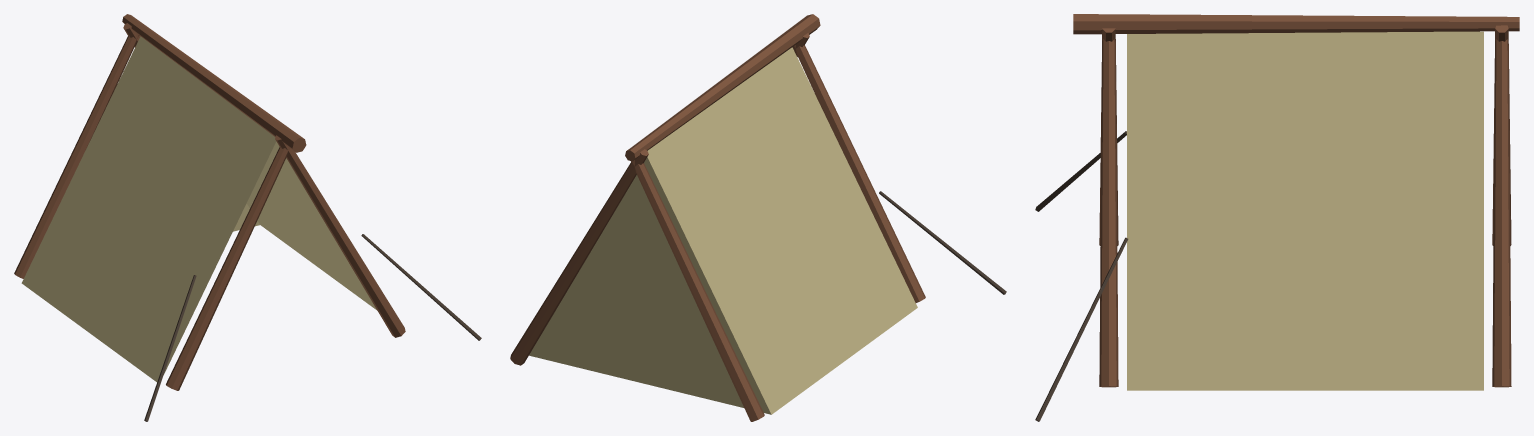
Rendered from tent.glb.
3 views of the same model, side by side, from view 1: azimuth 30°, elevation 25°; view 2: azimuth 150°, elevation 25°; view 3: azimuth 270°, elevation 25° (orthographic). The views are drawn at different scales.
Visible parts, largest first — view 1: tent; view 2: tent; view 3: tent.
Boxes of the visible parts, bbox=[...] form: tent: bbox=[14, 14, 481, 421]; tent: bbox=[510, 14, 1006, 421]; tent: bbox=[1035, 14, 1519, 421].
Size of the model in its own units: 2.82 by 1.88 by 2.71.
